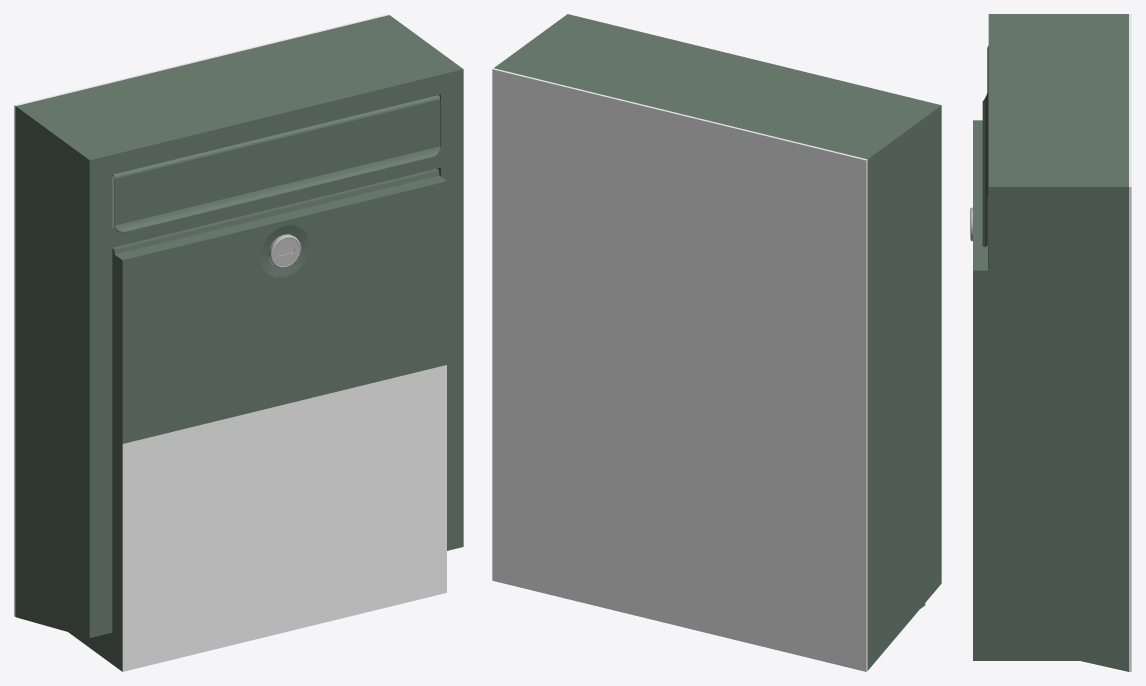
File: sweethome3d-scopia-letters-box-141.glb
The picture shows the model from 3 angles, left to right: view 1: azimuth 30°, elevation 25°; view 2: azimuth 150°, elevation 25°; view 3: azimuth 270°, elevation 25°; orthographic projection. The views are drawn at different scales.
Parts seen in each view (by area): view 1: Cube.001, Cube.004, Cube, Cube.002, Cube.003, Cylinder; view 2: Cube.003, Cube.001; view 3: Cube.001, Cube, Cube.003, Cube.002.
Boxes of the visible parts, bbox=[...] form: Cube.001: bbox=[15, 15, 463, 637]; Cube.004: bbox=[122, 365, 446, 671]; Cube: bbox=[68, 168, 446, 671]; Cube.002: bbox=[112, 95, 440, 232]; Cube.003: bbox=[14, 14, 388, 616]; Cylinder: bbox=[268, 234, 301, 268]; Cube.003: bbox=[492, 68, 867, 671]; Cube.001: bbox=[494, 14, 941, 670]; Cube.001: bbox=[988, 14, 1128, 671]; Cube: bbox=[973, 120, 1078, 660]; Cube.003: bbox=[1129, 14, 1131, 671]; Cube.002: bbox=[982, 46, 988, 246].
Bounding box in the file's own units: 31 × 40.55 × 12.21.
3 materials, 1 textured.
